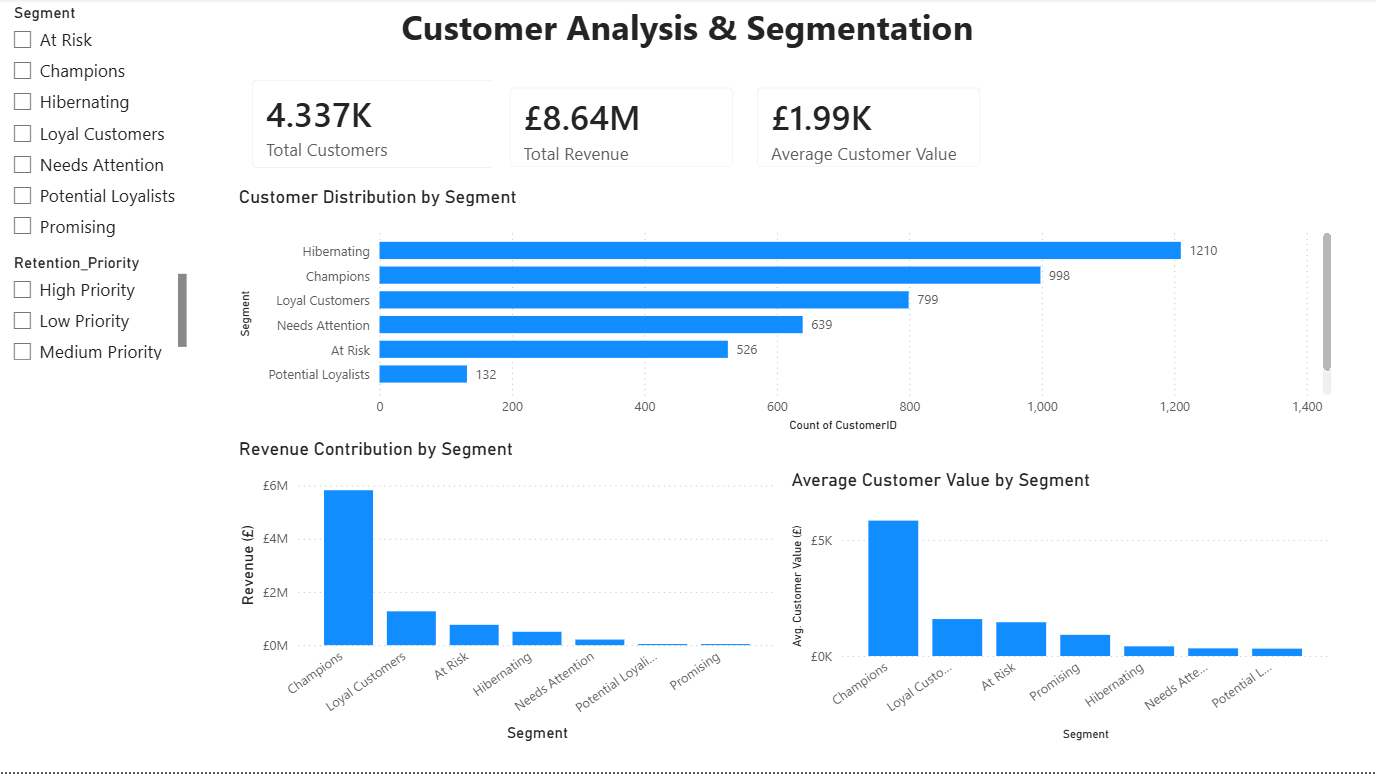

This screenshot's page, from the dashboard's own definition file:
{"tool":"powerbi","page":{"name":"Page 1","canvas":[1280,720],"ordinal":0},"visuals":[{"type":"cardVisual","title":"Total Customers","fields":{"Data":["Count(customer_segmentation rfm_customer.CustomerID)"]},"box":[217.5,58.8,262.5,116.2],"z":0},{"type":"cardVisual","title":"Total Revenue","fields":{"Data":["Sum(customer_segmentation rfm_customer.Monetary)"]},"box":[457.5,66.2,242.5,108.8],"z":1000},{"type":"cardVisual","fields":{"Data":["Avg(customer_segmentation rfm_customer.Monetary)"]},"box":[687.5,66.2,242.5,108.8],"z":2000},{"type":"clusteredBarChart","title":"Customer Distribution by Segment","fields":{"Category":["customer_segmentation rfm_customer.Segment"],"Y":["CountNonNull(customer_segmentation rfm_customer.CustomerID)"]},"box":[217.5,175,1026.2,233.8],"z":3000},{"type":"clusteredColumnChart","title":"Revenue Contribution by Segment","fields":{"Category":["customer_segmentation rfm_customer.Segment"],"Y":["Sum(customer_segmentation rfm_customer.Monetary)"]},"box":[217.5,408.8,510,287.5],"z":4000},{"type":"clusteredColumnChart","title":"Average Customer Value by Segment","fields":{"Category":["customer_segmentation rfm_customer.Segment"],"Y":["Avg(customer_segmentation rfm_customer.Monetary)"]},"box":[731.2,438.8,510,257.5],"z":5000},{"type":"slicer","fields":{"Values":["customer_segmentation rfm_customer.Segment"]},"box":[0,0,178.8,232.5],"z":6000},{"type":"slicer","fields":{"Values":["customer_segmentation rfm_customer.Retention_Priority"]},"box":[0,232.5,178.8,108.8],"z":7000},{"type":"textbox","box":[348.8,0,581.2,58.8],"z":8000}]}

Visuals, with their boxes in screenshot pixels (x1, y1, x2, y2), scaled from the page's 1280x720 canvas onto the 1376x777 screenshot:
"Total Customers" cardVisual: <bbox>234, 63, 516, 189</bbox>
"Total Revenue" cardVisual: <bbox>492, 71, 752, 189</bbox>
cardVisual - Avg(customer_segmentation rfm_customer.Monetary): <bbox>739, 71, 1000, 189</bbox>
"Customer Distribution by Segment" clusteredBarChart: <bbox>234, 189, 1337, 441</bbox>
"Revenue Contribution by Segment" clusteredColumnChart: <bbox>234, 441, 782, 751</bbox>
"Average Customer Value by Segment" clusteredColumnChart: <bbox>786, 474, 1334, 751</bbox>
slicer - customer_segmentation rfm_customer.Segment: <bbox>0, 0, 192, 251</bbox>
slicer - customer_segmentation rfm_customer.Retention_Priority: <bbox>0, 251, 192, 368</bbox>
textbox: <bbox>375, 0, 1000, 63</bbox>
